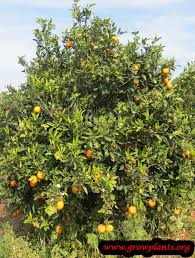orange: (106, 223, 115, 233), (128, 206, 138, 215), (98, 223, 106, 233), (160, 68, 169, 75)
